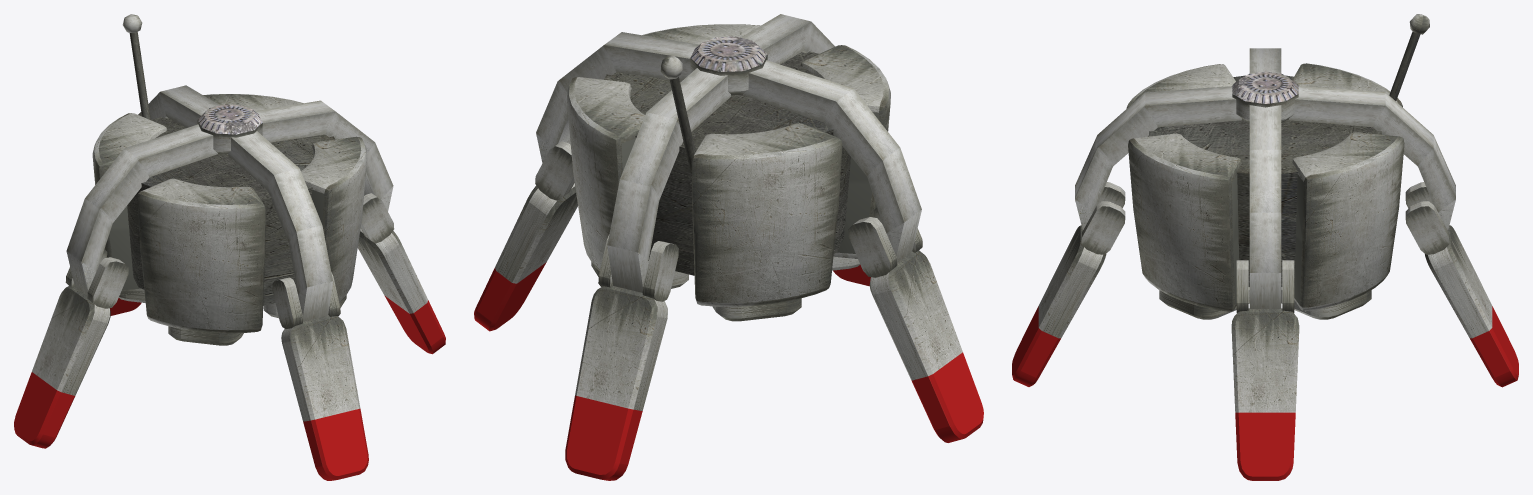
File: static.fbx
3 renders of one model, left to right at view 1: azimuth 30°, elevation 25°; view 2: azimuth 150°, elevation 25°; view 3: azimuth 270°, elevation 25°, orthographic. The views are drawn at different scales.
Visible parts, largest first — view 1: Tube_1_2, Cube_11, Cube_10, Cylinder_1, Tube_1, Extrude_6, Extrude_9, Cube_9, Tube_1_3, Extrude_5, Extrude_3, Extrude_8 (+9 smaller); view 2: Tube_1_3, Cube_11, Cube_12, Cylinder_1, Tube_1_4, Extrude_12, Extrude_9, Cube_9, Tube_1_2, Extrude_11, Extrude_3, Extrude_8 (+9 smaller); view 3: Tube_1, Tube_1_4, Cylinder_1, Cube_10, Cube_12, Cube_9, Extrude_3, Extrude_2, Extrude_6, Extrude_12, Cylinder_2, Extrude_4 (+10 smaller).
Part boxes in pixels (x1,y1,x2,y2): Tube_1_2: [137, 178, 265, 333]; Cube_11: [66, 124, 217, 295]; Cube_10: [228, 131, 332, 321]; Cylinder_1: [127, 117, 334, 305]; Tube_1: [301, 136, 367, 303]; Extrude_6: [281, 315, 360, 421]; Extrude_9: [32, 286, 110, 395]; Cube_9: [255, 100, 393, 211]; Tube_1_3: [92, 113, 167, 294]; Extrude_5: [303, 408, 368, 480]; Extrude_3: [357, 228, 427, 313]; Extrude_8: [14, 372, 75, 448]; Tube_1_3: [691, 123, 842, 306]; Cube_11: [743, 60, 921, 262]; Cube_12: [607, 68, 730, 292]; Cylinder_1: [604, 51, 850, 275]; Tube_1_4: [567, 77, 645, 270]; Extrude_12: [575, 285, 667, 410]; Extrude_9: [869, 250, 962, 380]; Cube_9: [536, 32, 699, 162]; Tube_1_2: [800, 45, 890, 259]; Extrude_11: [565, 395, 642, 480]; Extrude_3: [495, 183, 577, 283]; Extrude_8: [911, 352, 983, 442]; Tube_1: [1128, 133, 1241, 311]; Tube_1_4: [1292, 132, 1404, 311]; Cylinder_1: [1149, 75, 1381, 286]; Cube_10: [1075, 86, 1241, 229]; Cube_12: [1289, 86, 1455, 229]; Cube_9: [1249, 105, 1281, 308]; Extrude_3: [1231, 308, 1299, 412]; Extrude_2: [1235, 412, 1295, 480]; Extrude_6: [1038, 225, 1106, 338]; Extrude_12: [1425, 225, 1492, 338]; Cylinder_2: [1232, 71, 1298, 122]; Extrude_4: [1081, 182, 1125, 254].
Size of the model in its own units: 168 by 129 by 168.
Materials: 5 (5 with a texture image).
